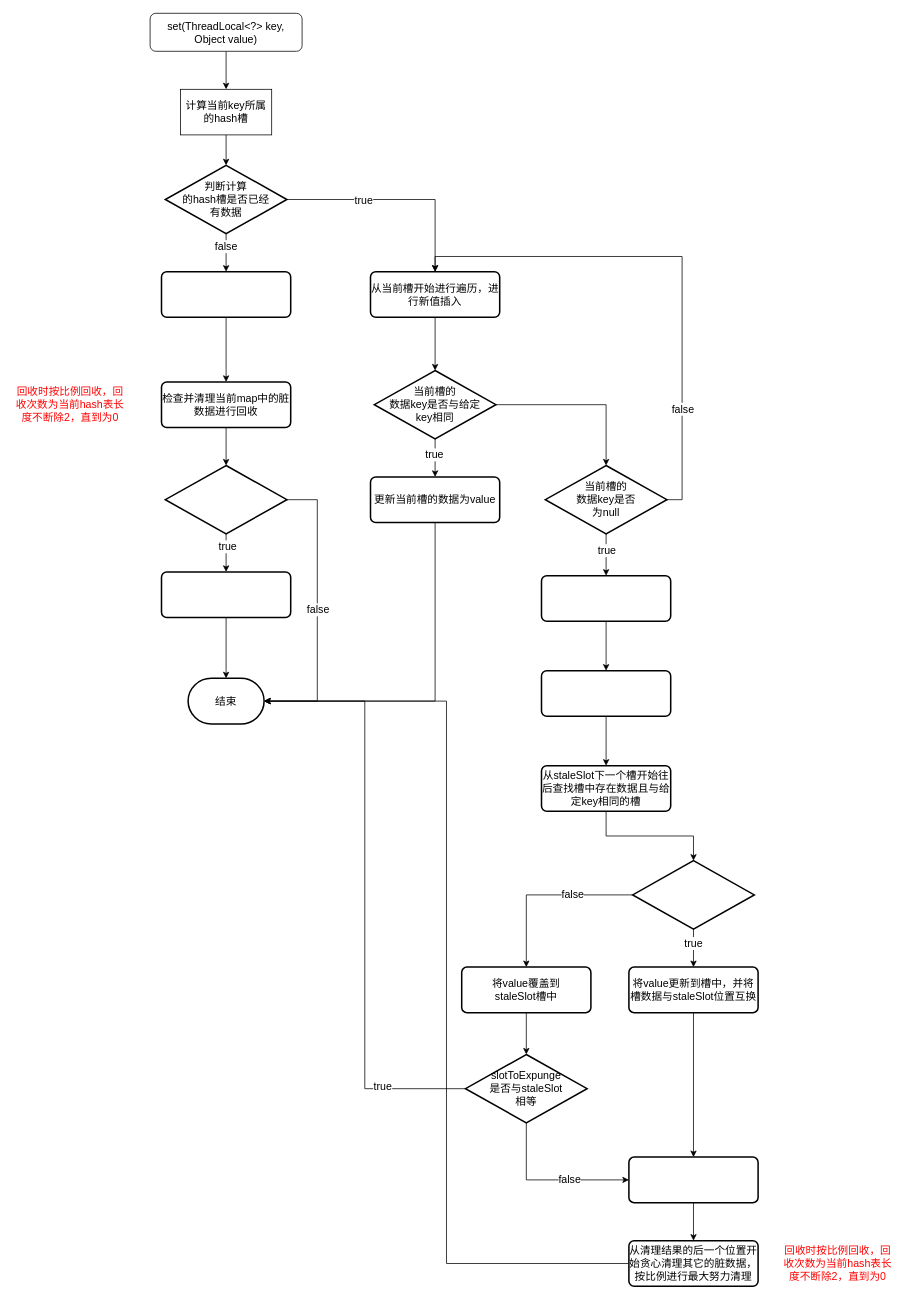
This 907x1303 diagram has some shape labels left out. The centre of each missing label's shape, as x and y in pixels:
rehash，新的hash表长度为原来的两倍: the point at 225,594
从slotToExpunge开始清理槽中key为null的脏数据: the point at 693,1179
从当前槽开始往前查找槽中存在数据且key为空的槽，记为slotToExpunge: the point at 605,693
回收了脏 数据且容量超过 hash表: the point at 225,499
当前槽为空，直接把数据 放置到此为止: the point at 225,294
查找到 key相同的槽: the point at 693,894
认定当前槽是一个脏数据，记为staleSlot，从staleSlot开始清理并更新数据: the point at 605,598
